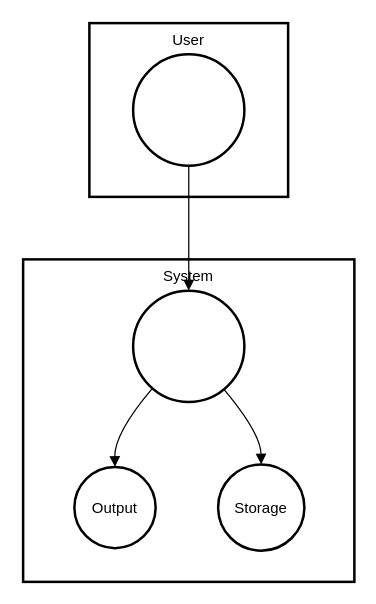
The diagram is 376 pixels wide and 604 high, and some of its shapes have lost their labels. The shapes that lost their labels are listed below. From the top down, each one's centre as x and y in pixels, then its label:
the point at 188,109: User Input
the point at 188,345: Processing
